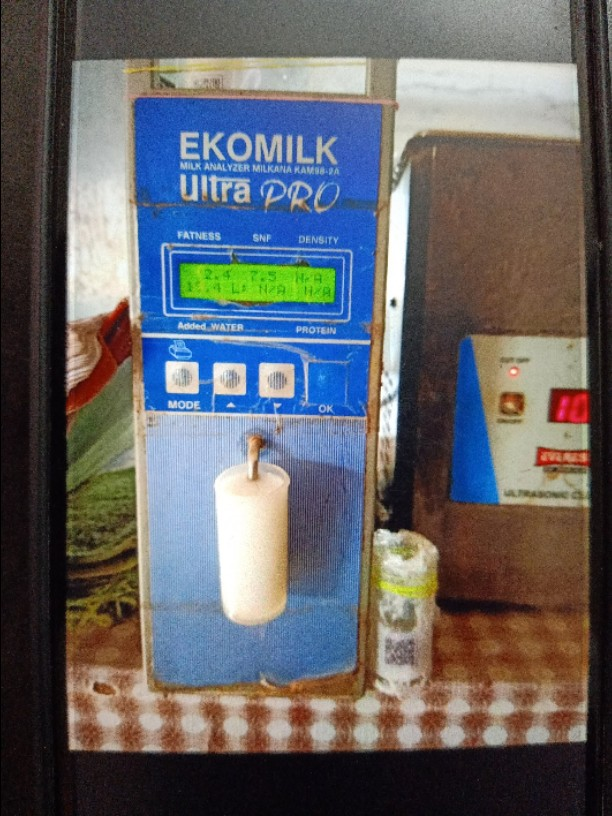lcd: (172, 262, 347, 315)
qr: (380, 634, 424, 668)
